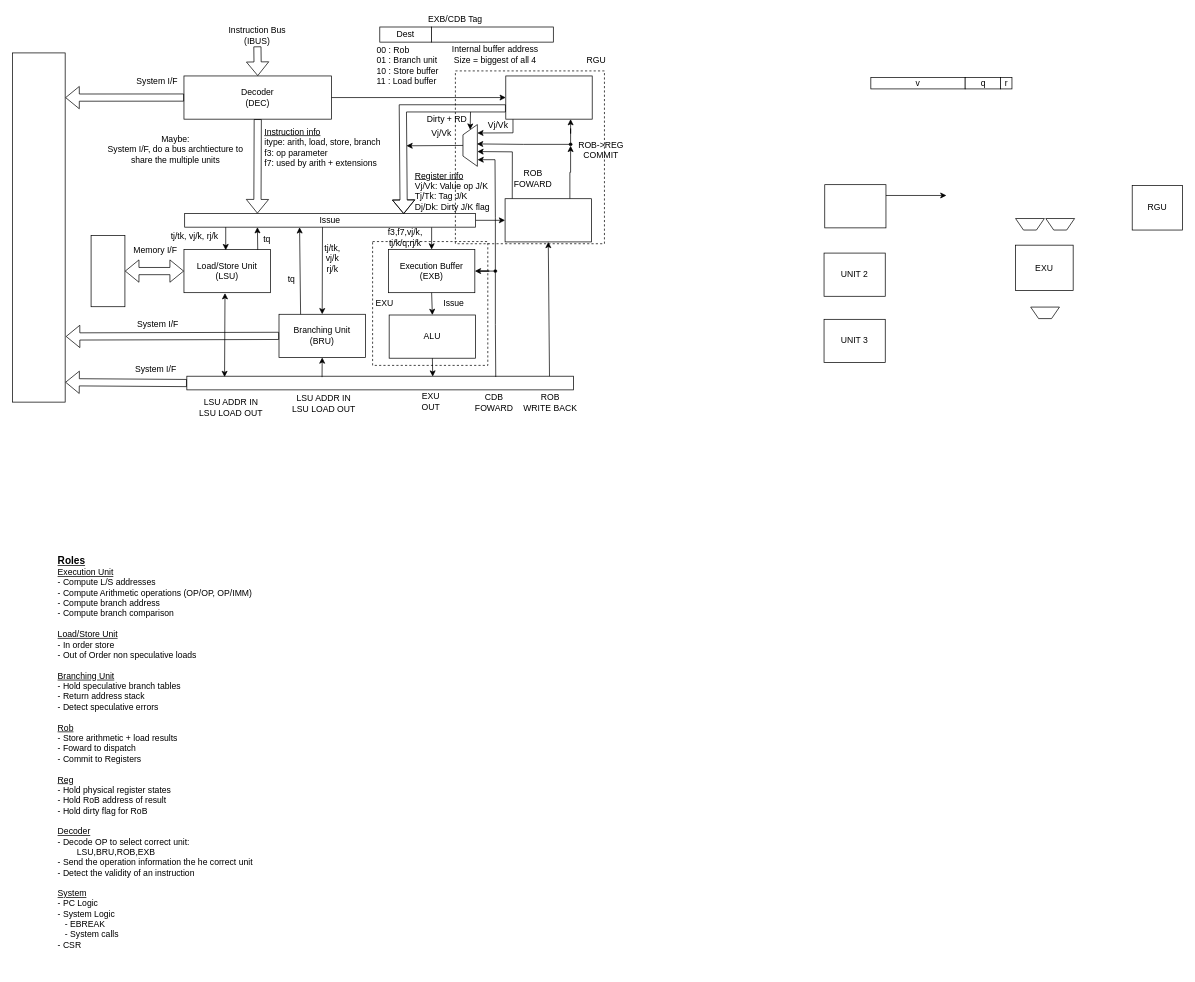
Image size: 1195x982. Some labels were removed from this diagram. Here are the shapes that lost their labels. From the top down, the centre of each, then its label:
point 492,34: Address
point 548,97: Registers (REG)
point 547,220: Re-order Buffer (ROB)
point 855,206: UNIT 1
point 38,227: System
point 107,271: MEM
point 379,382: Common Data Bus
